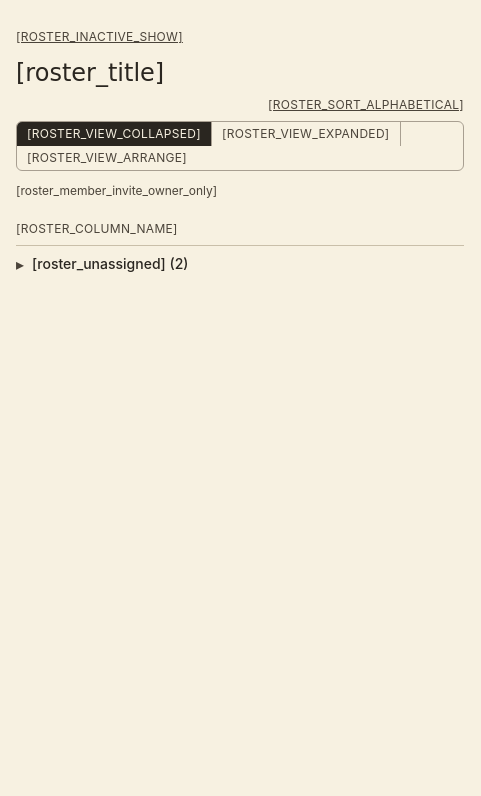
Test case: (A) two-step confirm — the page's existing destructive idiom, reused › arming swaps in confirm + cancel and writes NOTHING
Click the button with test id "section-toggle-unassigned": (110, 264) [16,246,464,282]
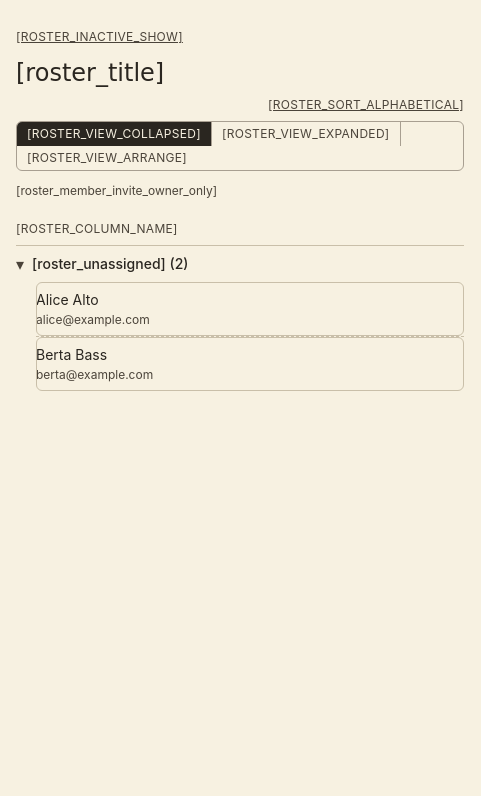
expect the list item with test id "roster-row-m2" is shown: met
Click the button without text next to "berta@example.com": (250, 364) [36,337,464,391]
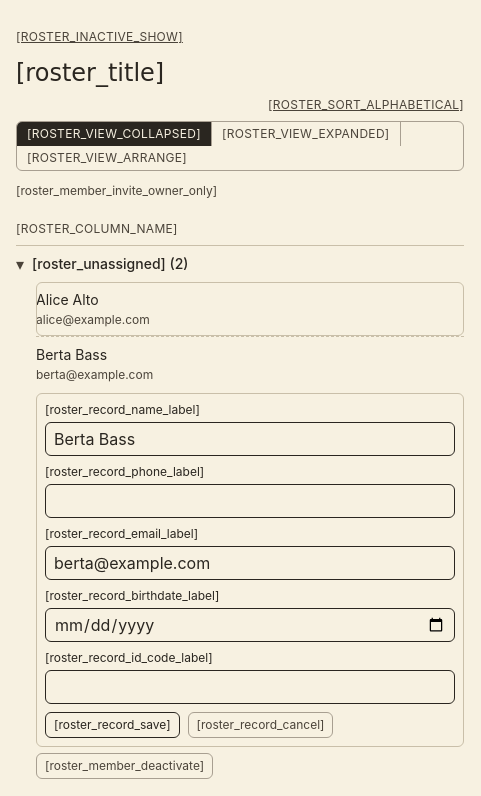
expect the field with test id "roster-record-name" is shown: met, box [45,422,455,456]
Click the button with test id "member-deactivate-m2": (125, 766) [36,753,213,779]
(page scrolled)
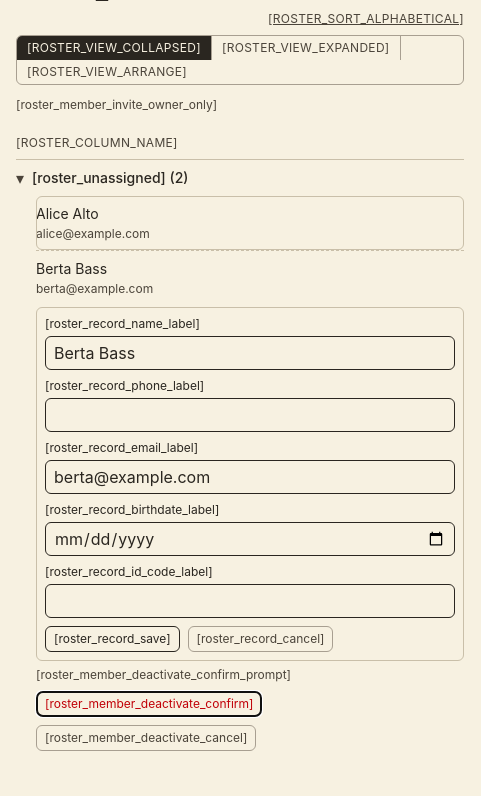
expect the button with test id "member-deactivate-confirm-m2" is shown: met, box [36,691,262,717]
expect the button with test id "member-deactivate-cancel-m2" is shown: met, box [36,725,256,751]
